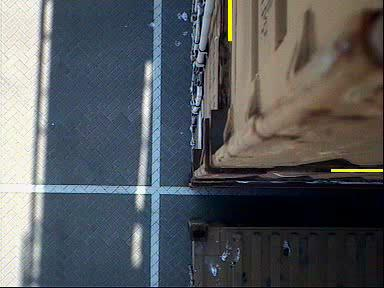groundmarker_2: (184, 151, 235, 219)
